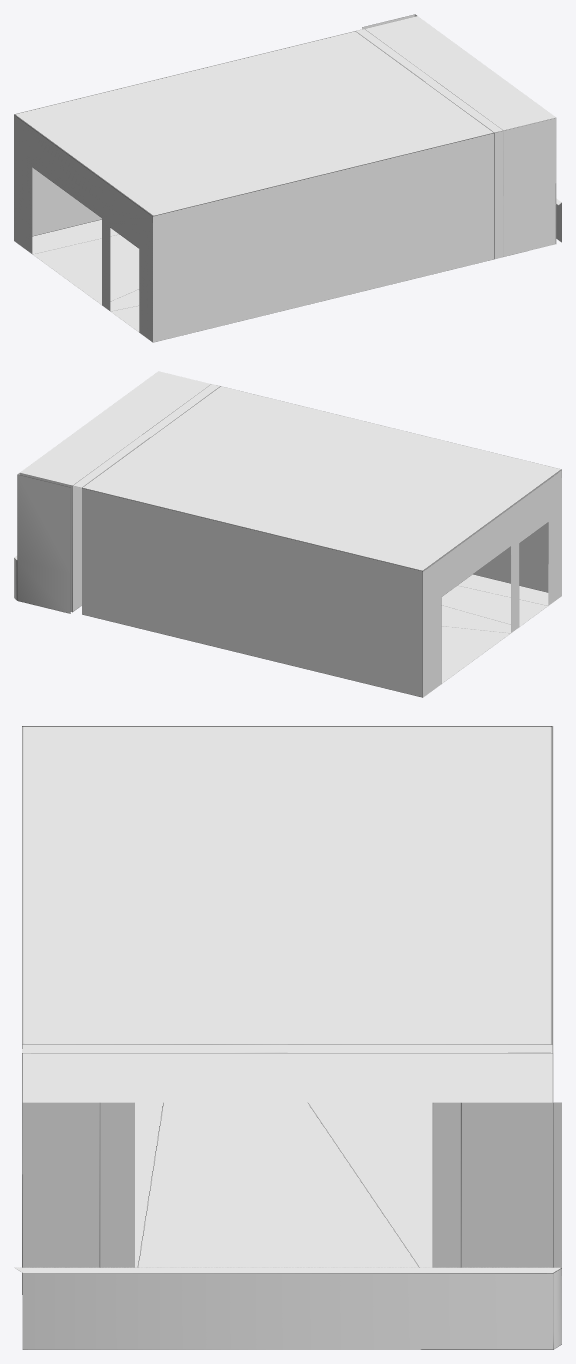
The model's file is 房间主体.fbx.
3 renders of one model, top to bottom at view 1: azimuth 30°, elevation 25°; view 2: azimuth 150°, elevation 25°; view 3: azimuth 270°, elevation 25°, orthographic. The views are drawn at different scales.
Visible parts, largest first — view 1: 内墙, 屋顶, 阳台, 地板, 外墙1; view 2: 内墙, 屋顶, 阳台, 地板, 外墙1; view 3: 屋顶, 阳台, 地板, 外墙1.
Boxes of the visible parts, x1,y1,x2,y2 form: 内墙: (14,114,494,342); 屋顶: (14,31,493,215); 阳台: (362,14,561,256); 地板: (32,219,139,332); 外墙1: (356,29,503,259); 内墙: (82,469,561,697); 屋顶: (82,386,561,570); 阳台: (14,371,211,613); 地板: (441,574,548,683); 外墙1: (72,384,220,611); 屋顶: (22,726,553,1044); 阳台: (14,1053,561,1349); 地板: (135,1102,432,1267); 外墙1: (22,1044,553,1294).
Bounding box in the file's own units: 147 × 43.4 × 89.01.
